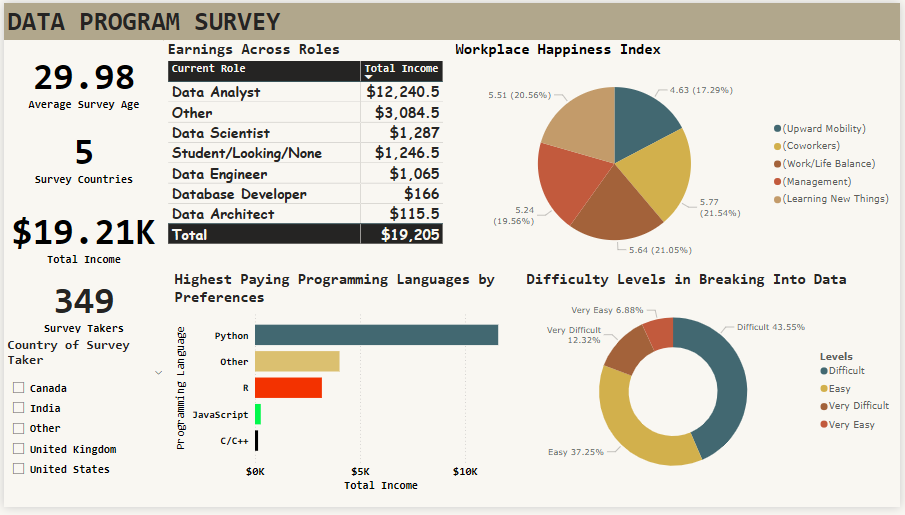

The dashboard page shown, as its layout file describes it:
{"tool":"powerbi","page":{"name":"Page 1","canvas":[1280,720],"ordinal":0},"visuals":[{"type":"textbox","box":[0,0,1280,53.8],"z":0},{"type":"card","fields":{"Values":["Avg(Sheet1.Q10 - Current Age)"]},"box":[0,53.5,228.4,114.2],"z":1000},{"type":"card","fields":{"Values":["Count(Sheet1.Which Country do you live in?)"]},"box":[0,167.7,228.4,98.3],"z":2000},{"type":"tableEx","title":"Earnings Across Roles","fields":{"Values":["Sheet1.Current Role","Sheet1.Total Income"]},"box":[228.4,53.5,412,328.2],"z":3000},{"type":"pieChart","title":"Workplace Happiness Index","fields":{"Y":["Avg(Sheet1.How Happy are you in your Current Position (Upward Mobility))","Avg(Sheet1.How Happy are you in your Current Position(Coworkers))","Avg(Sheet1.How Happy are you in your Current Position (Work/Life Balance))","Avg(Sheet1.How Happy are you in your Current Position (Management))","Avg(Sheet1.How Happy are you in your Current Position (Learning New Things))"]},"box":[640.5,53.5,639,328.2],"z":4000},{"type":"clusteredBarChart","title":"Highest Paying Programming Languages by Preferences","fields":{"Category":["Sheet1.Favorite Programming Language"],"Y":["Sheet1.Total Income"]},"box":[238.6,381.7,503.1,322.4],"z":5000},{"type":"card","fields":{"Values":["Count(Sheet1.Unique ID)"]},"box":[0,381.7,228.4,95.4],"z":6000},{"type":"card","fields":{"Values":["Sheet1.Total Income"]},"box":[0,266,228.4,130.1],"z":7000},{"type":"donutChart","title":"Difficulty Levels in Breaking Into Data","fields":{"Category":["Sheet1.How difficult was it for you to break into Data?"],"Y":["CountNonNull(Sheet1.How difficult was it for you to break into Data?)"]},"box":[741.7,381.7,537.8,322.4],"z":8000},{"type":"slicer","title":"Country of Survey Taker","fields":{"Values":["Sheet1.Which Country do you live in?"]},"box":[0,477.1,238.6,227],"z":9000}]}

Visuals, with their boxes in screenshot pixels (x1, y1, x2, y2), scaled from the page's 1280x720 canvas onto the 905x515 screenshot:
textbox: box=[0, 0, 904, 38]
card - Avg(Sheet1.Q10 - Current Age): box=[0, 38, 161, 120]
card - Count(Sheet1.Which Country do you live in?): box=[0, 120, 161, 190]
"Earnings Across Roles" tableEx: box=[161, 38, 453, 273]
"Workplace Happiness Index" pieChart: box=[453, 38, 904, 273]
"Highest Paying Programming Languages by Preferences" clusteredBarChart: box=[169, 273, 524, 504]
card - Count(Sheet1.Unique ID): box=[0, 273, 161, 341]
card - Sheet1.Total Income: box=[0, 190, 161, 283]
"Difficulty Levels in Breaking Into Data" donutChart: box=[524, 273, 904, 504]
"Country of Survey Taker" slicer: box=[0, 341, 169, 504]
